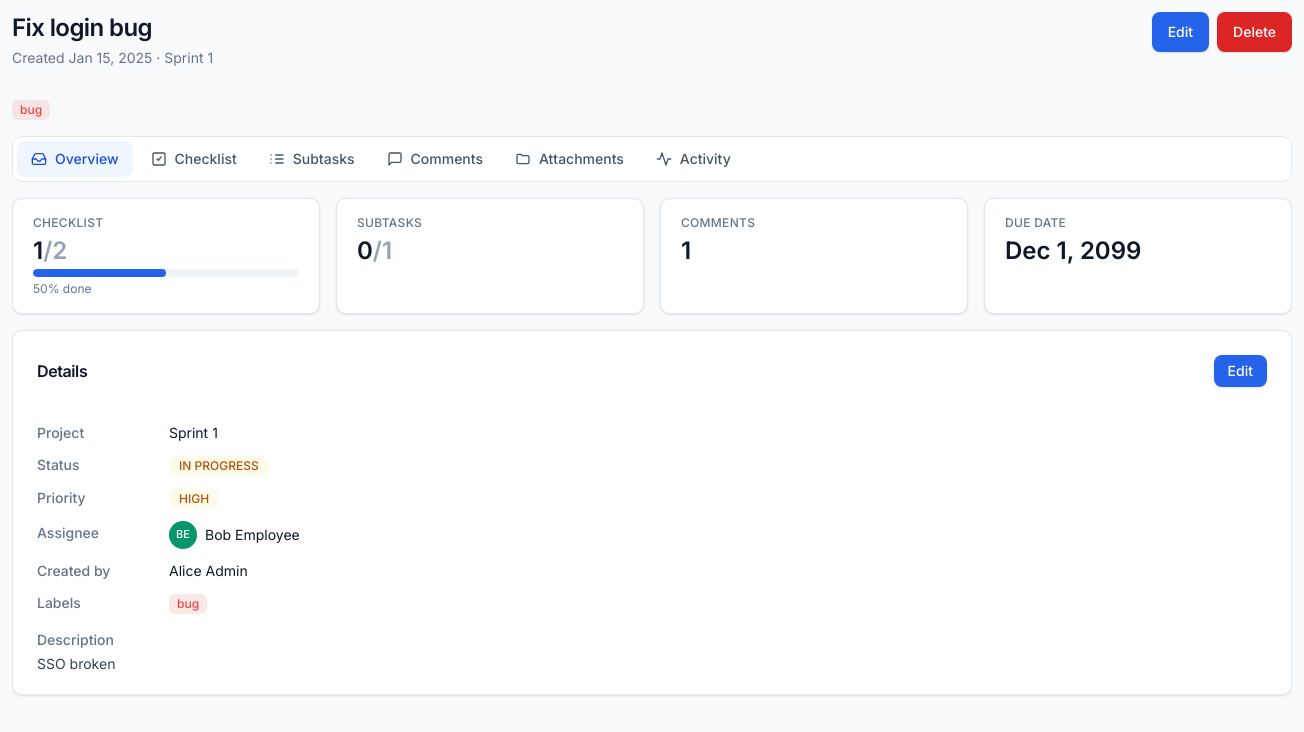
Test: TaskDetailsPage › loads and renders checklist items with progress
Expected: the heading "Fix login bug" is shown, [12, 13, 152, 42]
Click the button "Checklist" at (194, 159), box [136, 141, 251, 177]
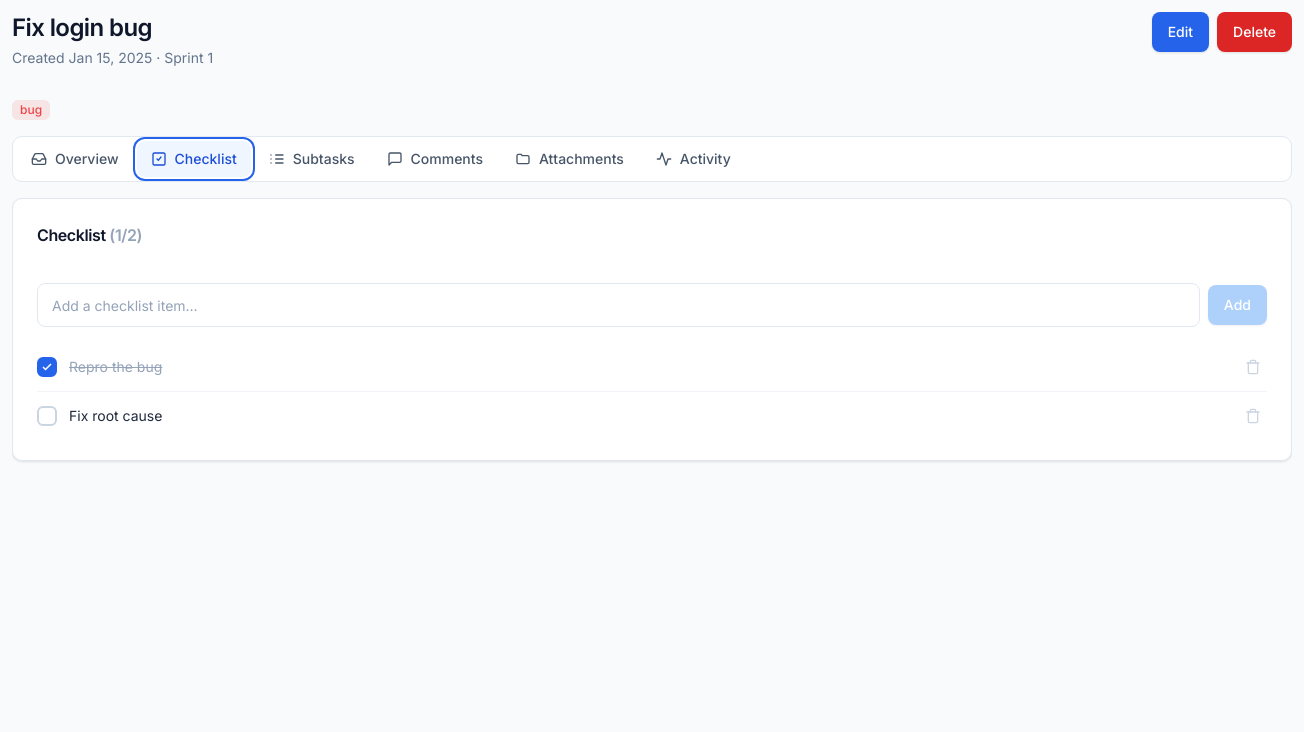
Expected: the text "Repro the bug" is shown, [69, 358, 162, 375]
Expected: the text "Fix root cause" is shown, [69, 407, 162, 424]
